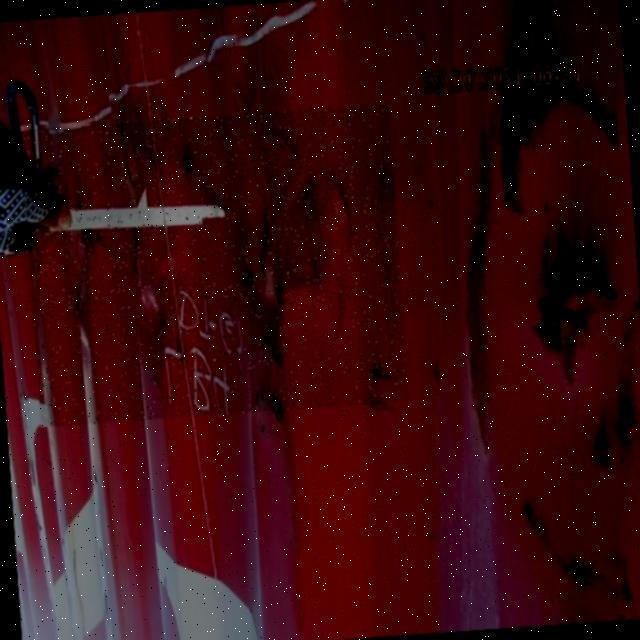Dent: (20, 101, 409, 426)
